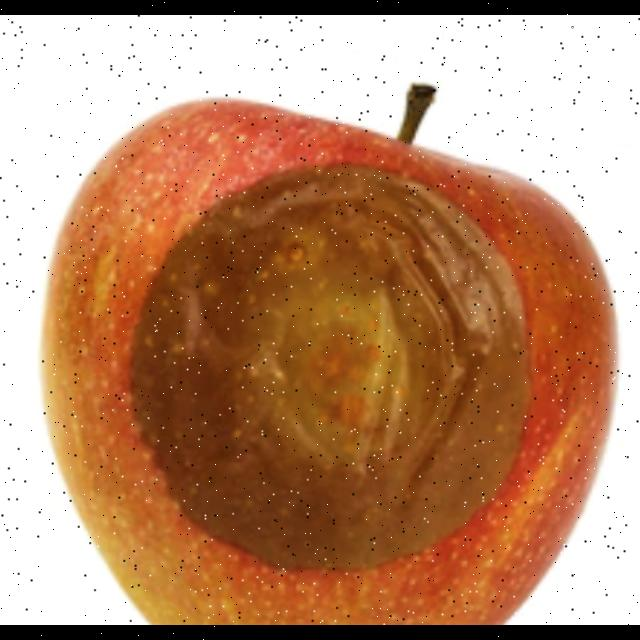Apel Tidak Segar: (33, 83, 622, 625)
